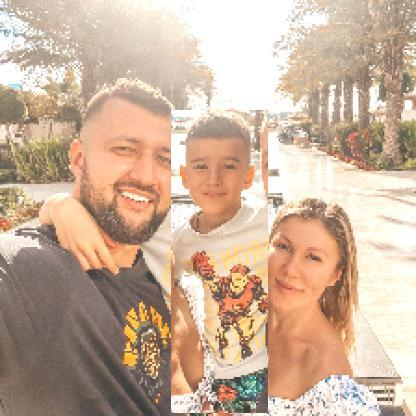child: (172, 111, 270, 415), (192, 110, 254, 142)
